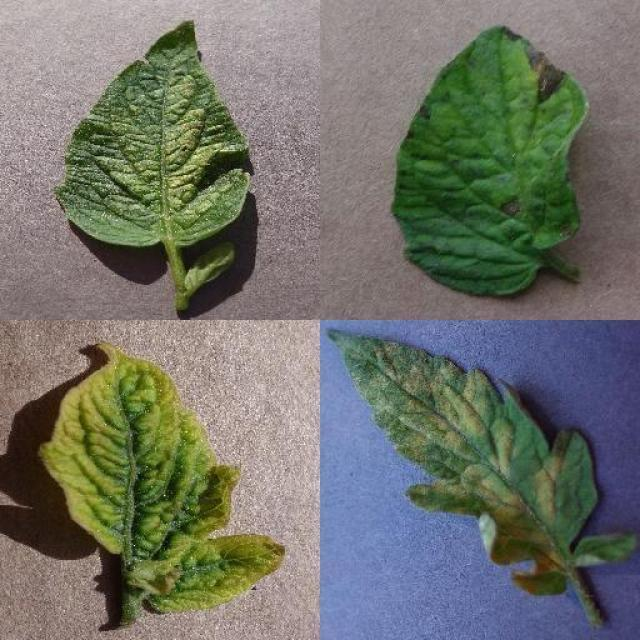Early Blight: (390, 21, 589, 304)
